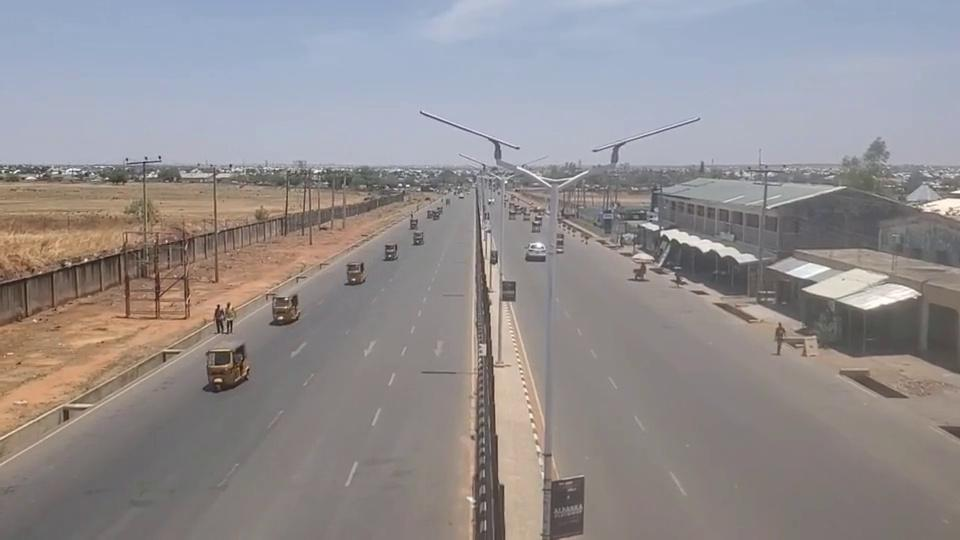keke: (205, 342, 250, 390), (270, 293, 299, 323), (345, 261, 365, 284)
